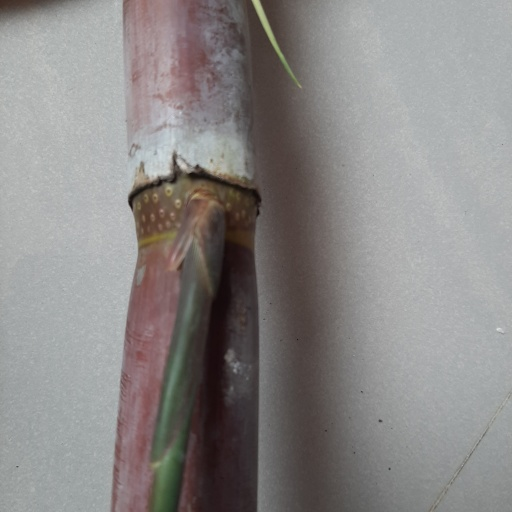Sprouted_Bud: (179, 190, 222, 296)
